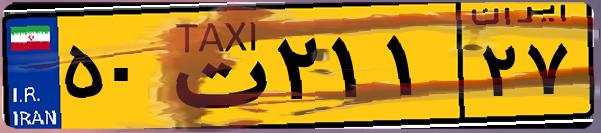0: (110, 28, 158, 98)
1: (385, 28, 445, 110), (330, 28, 385, 110)
2: (270, 28, 330, 110), (475, 38, 525, 113)
5: (57, 26, 110, 100)
7: (525, 38, 570, 115)
ت: (158, 12, 270, 120)
